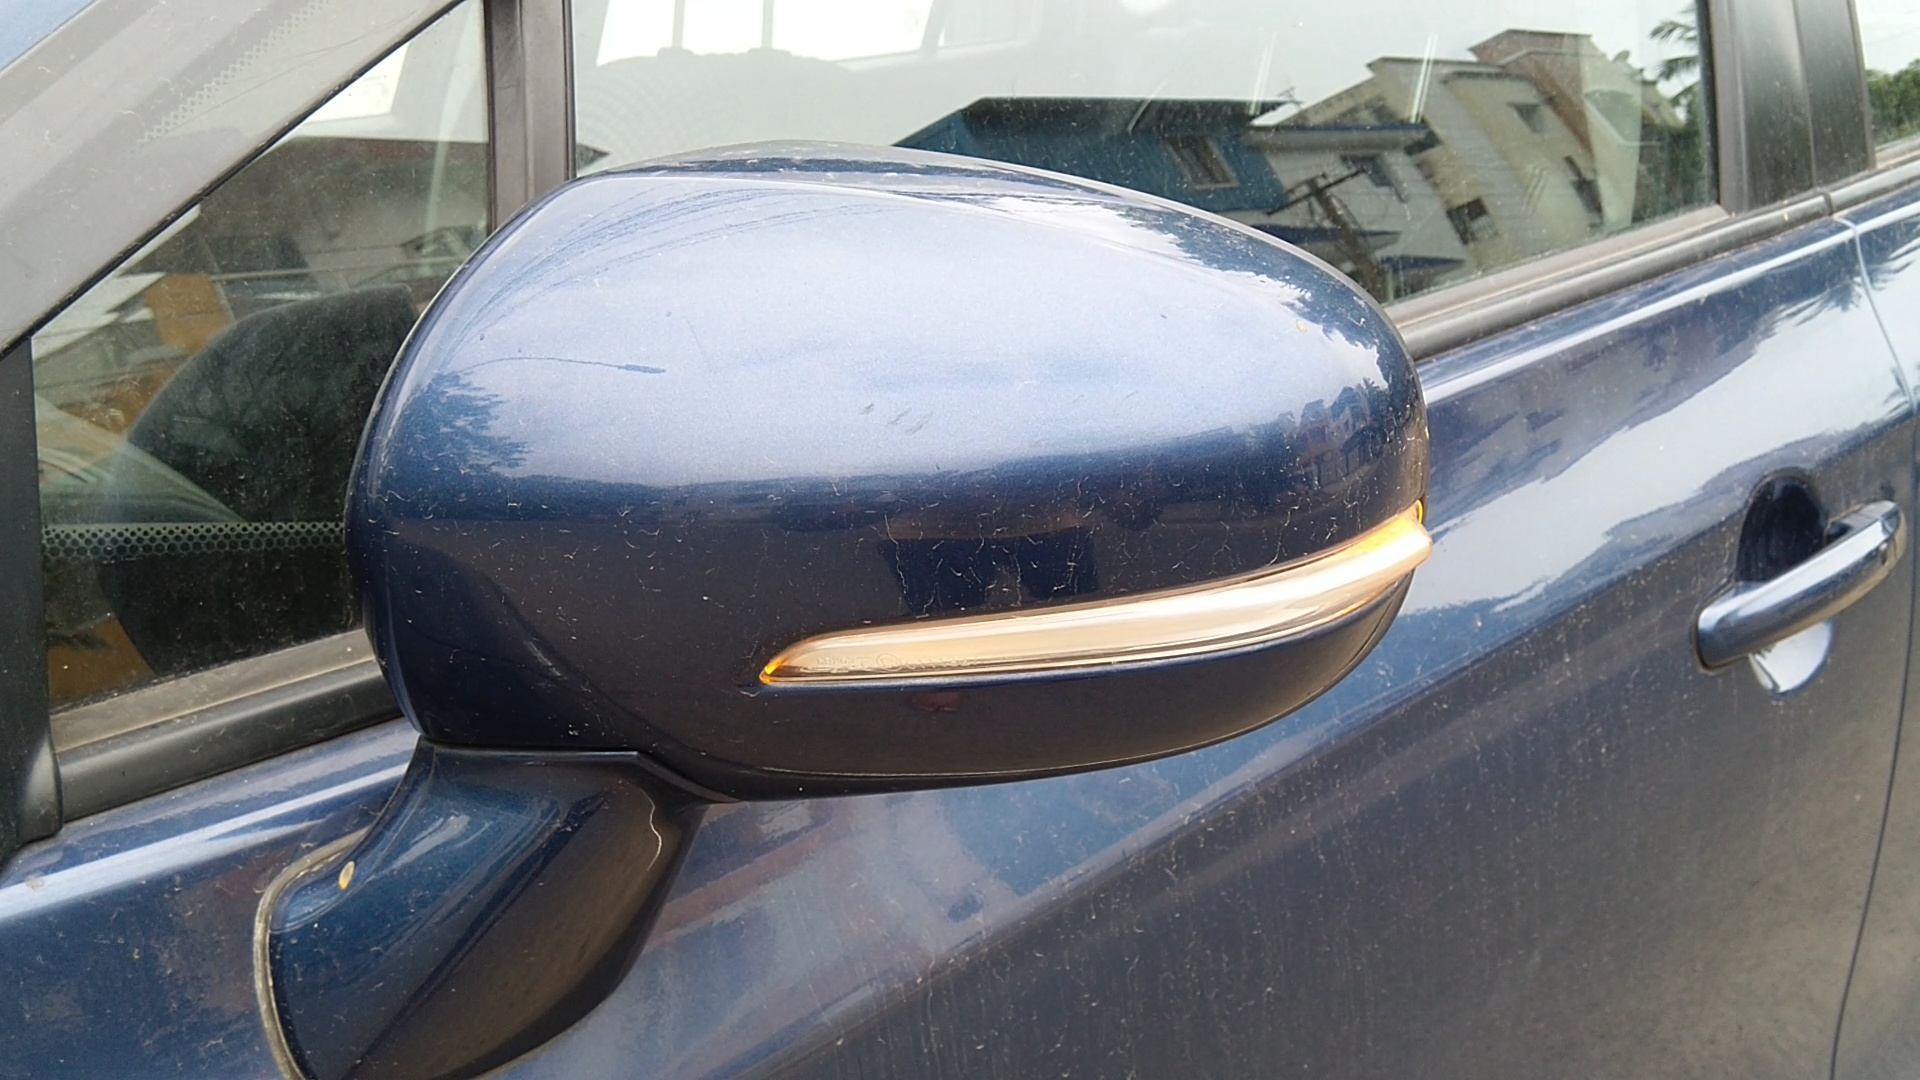ovr_mirror: (244, 125, 1449, 1080)
